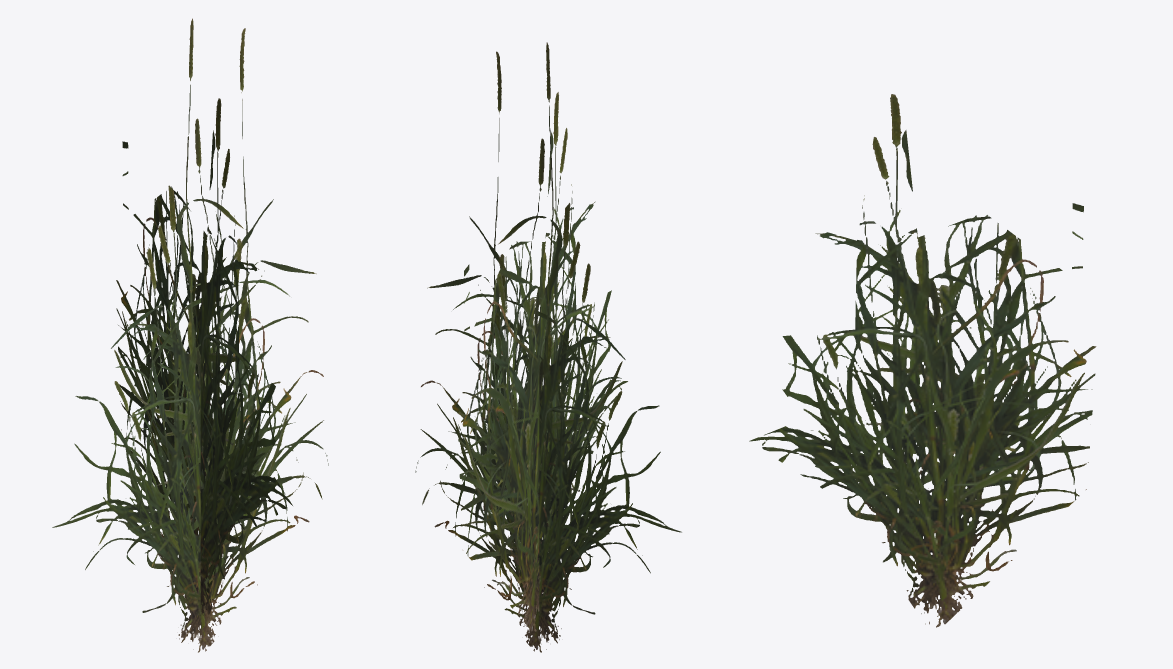
File: grass002.fbx
3 views of the same model, side by side, from view 1: azimuth 30°, elevation 25°; view 2: azimuth 150°, elevation 25°; view 3: azimuth 270°, elevation 25° (orthographic). The views are drawn at different scales.
Visible parts, largest first — view 1: SM_grass_meadow_04_cross; view 2: SM_grass_meadow_04_cross; view 3: SM_grass_meadow_04_cross.
Boxes of the visible parts, x1,y1,x2,y2 form: SM_grass_meadow_04_cross: (52, 18, 328, 652); SM_grass_meadow_04_cross: (415, 42, 681, 652); SM_grass_meadow_04_cross: (749, 94, 1096, 627).
Bounding box in the file's own units: 0.8586 × 1.56 × 0.908.
Materials: 1 (1 with a texture image).
